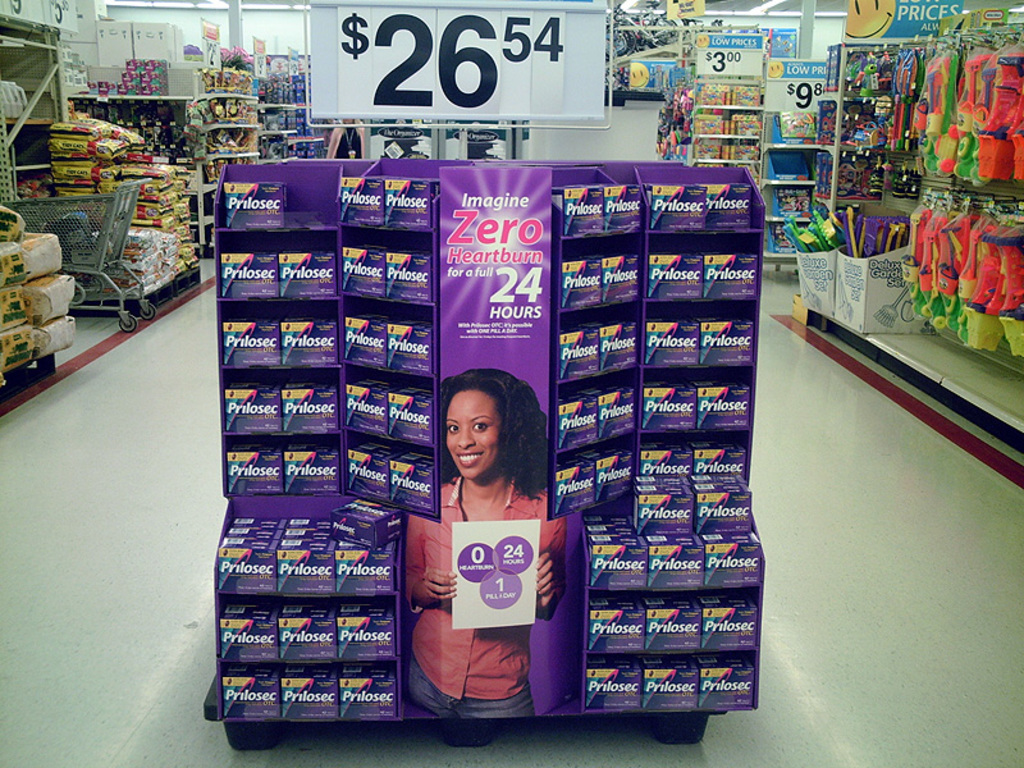face: (446, 383, 515, 495)
